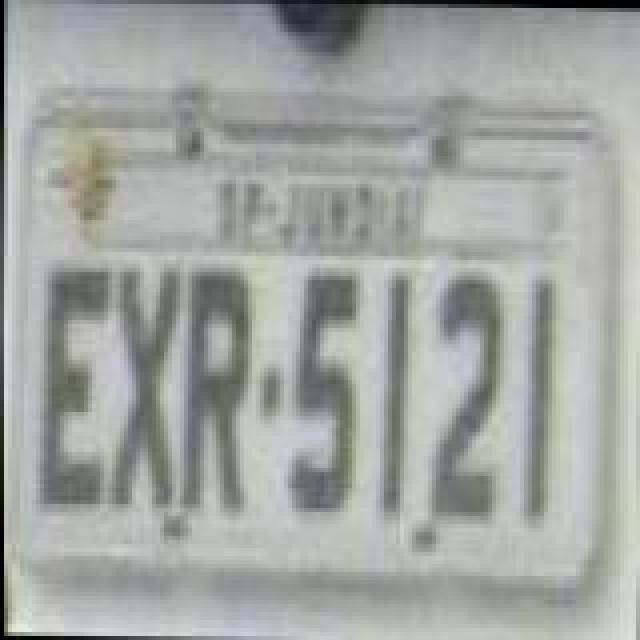1: (374, 270, 410, 522), (518, 274, 554, 526)
2: (426, 260, 502, 516)
5: (284, 268, 356, 520)
E: (36, 262, 108, 514)
R: (180, 256, 252, 512)
X: (108, 262, 180, 514)
